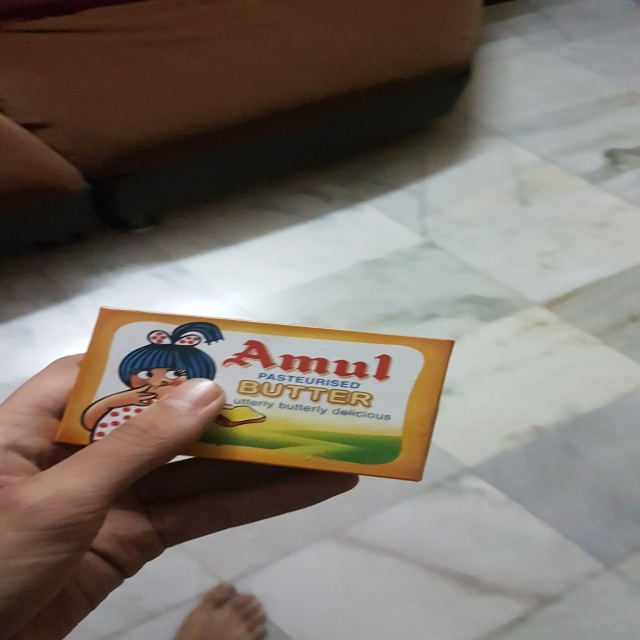butter: (55, 308, 458, 484)
